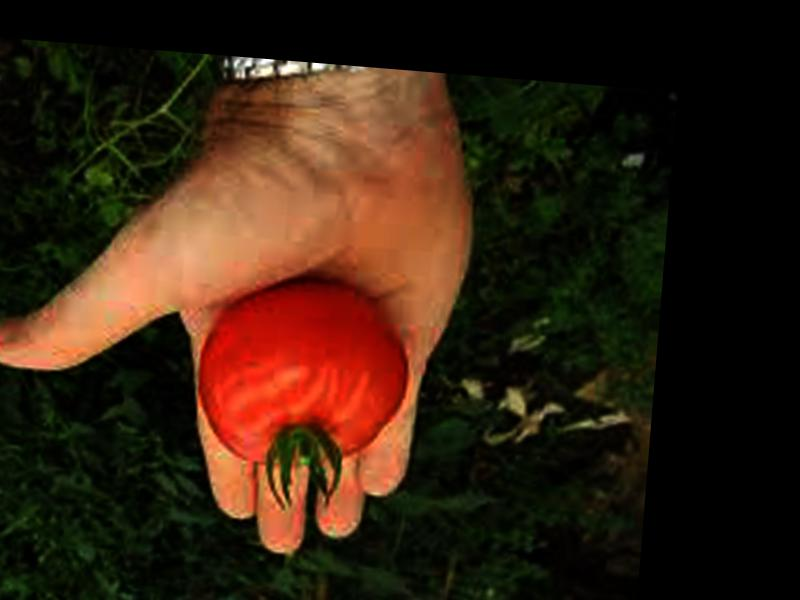Tomato: (190, 273, 417, 472)
